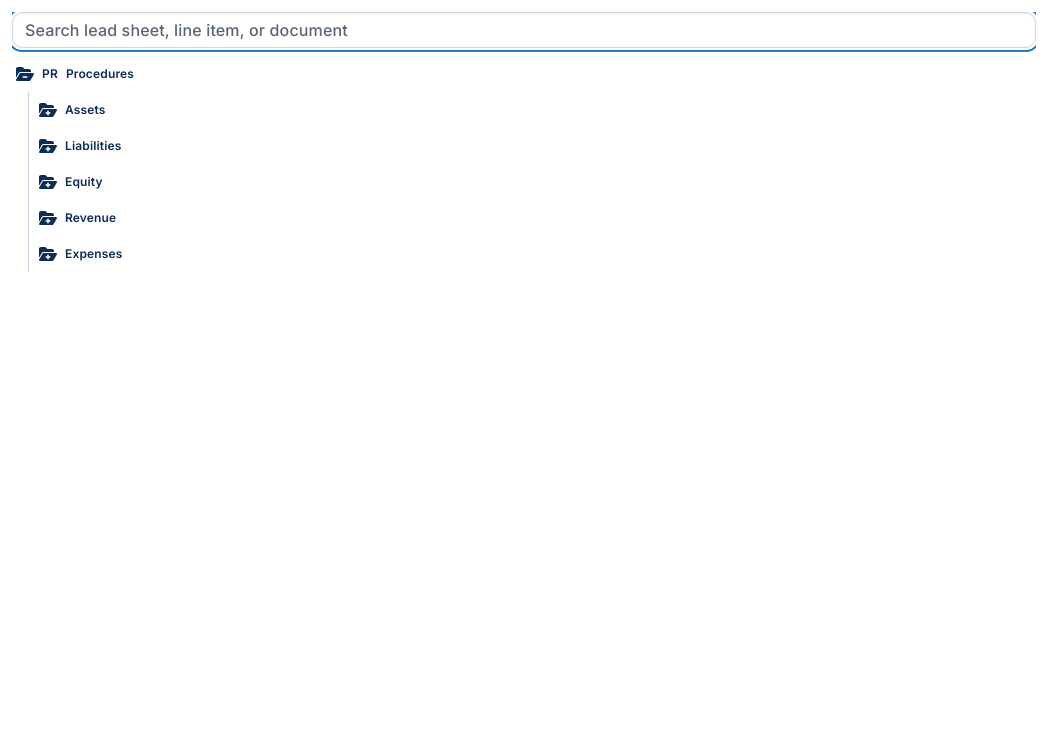
Test: Engagement and Lead sheet link pickers › matches the procedure lead sheet hierarchy, rows, columns, totals, and real attached docs for multiple lead sheets
The image size is (1048, 754).
Later steps or results of the test are not shown.
Check: the button "PR Procedures" is shown, box [12,56,1032,92]
Check: the button "Revenue" is shown, box [35,200,1032,236]
Click the button "Assets" at point(85, 110), box [35,92,1032,128]
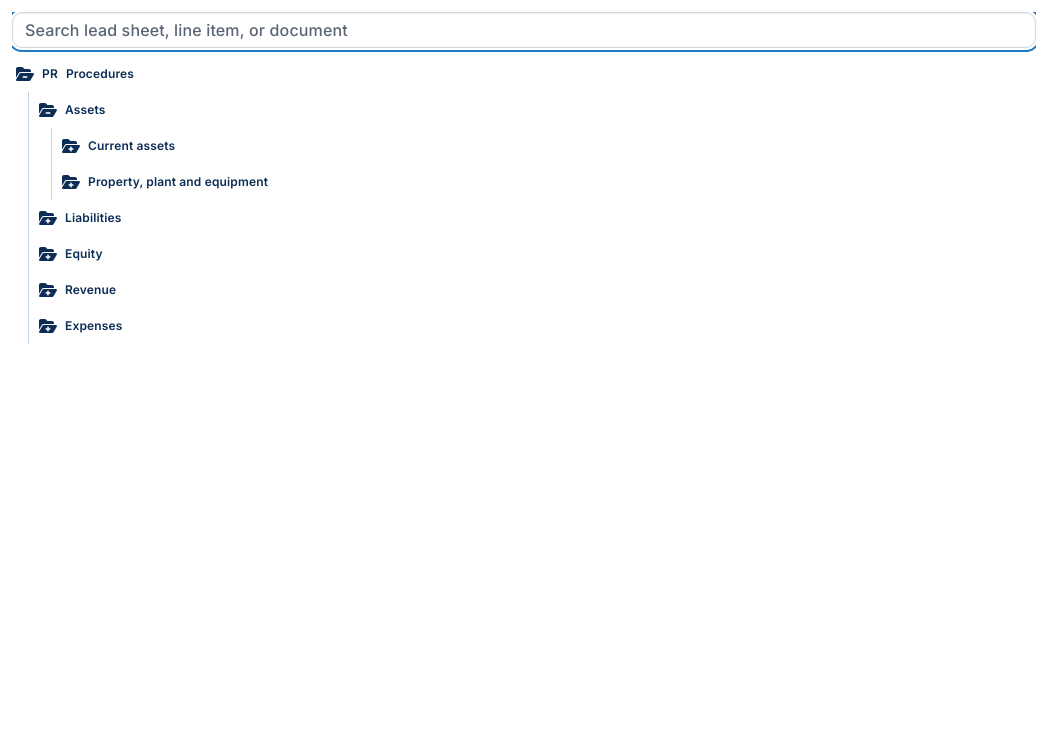
Click the button "Current assets" at point(132, 146), box [58,128,1032,164]
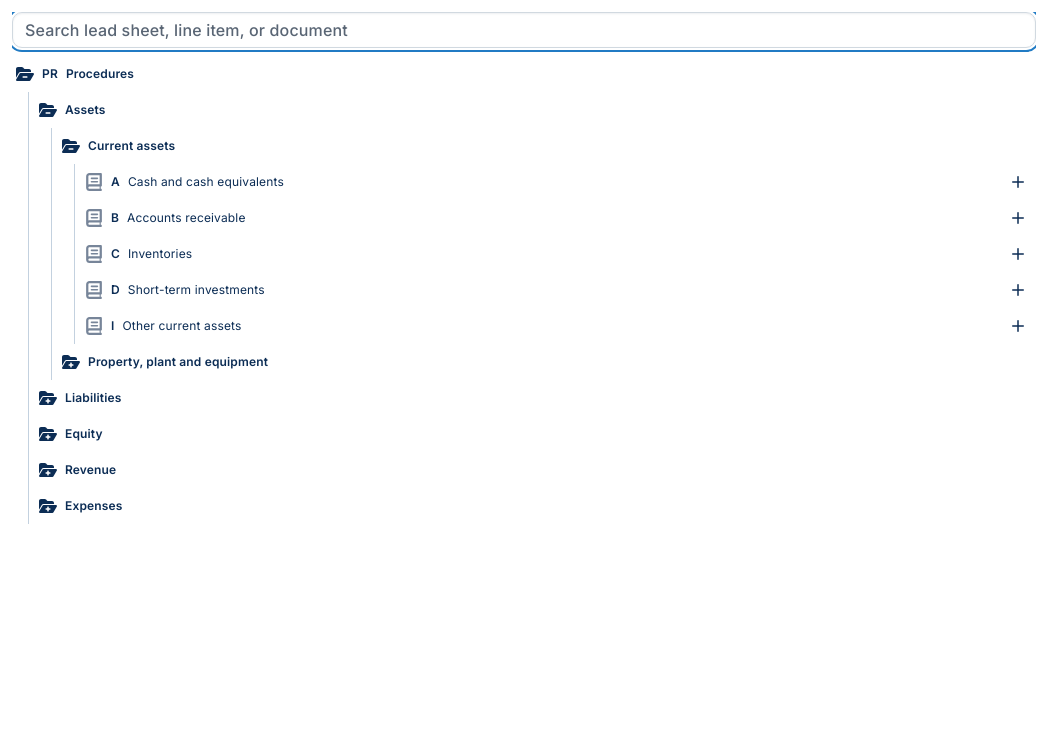
Click the 1st button named "Show line items" at point(1018, 182), box [1004,168,1032,196]
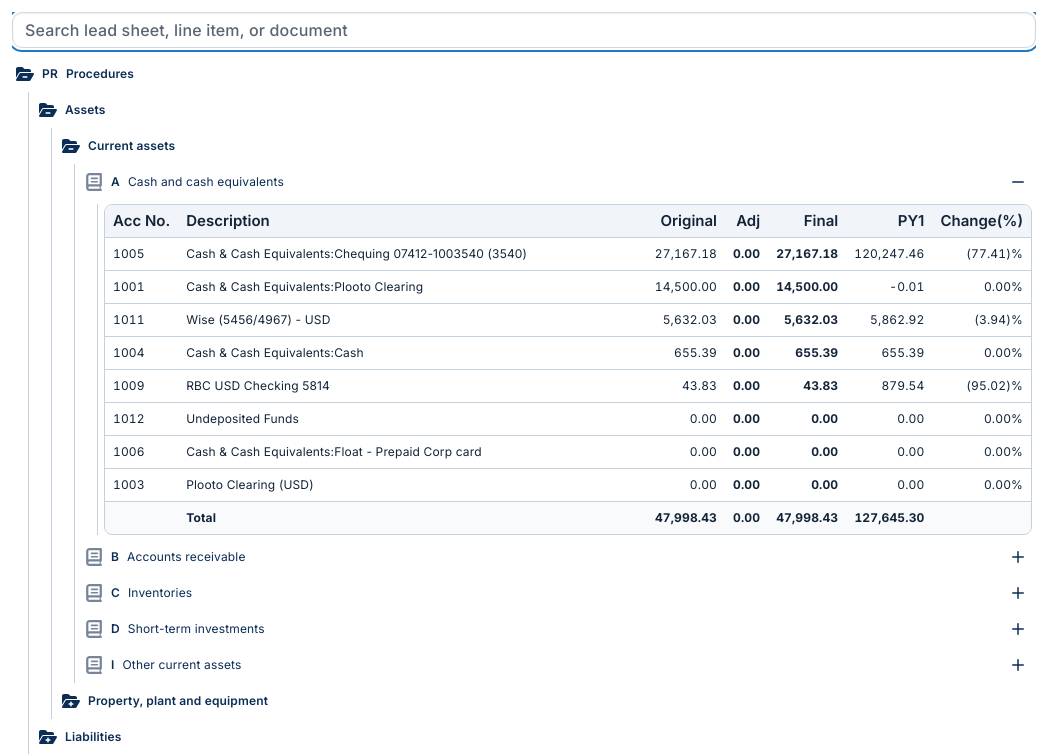
Click the 1st button named "Show line items" at point(1018, 557), box [1004,543,1032,571]
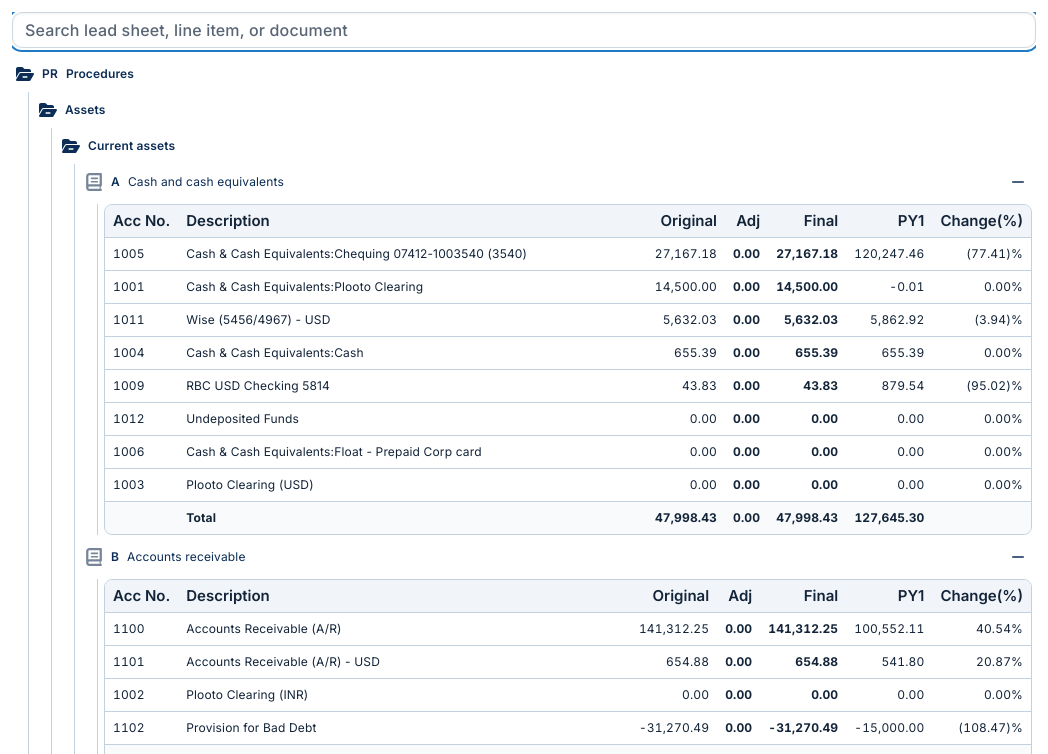
Check: the text "1005" is shown, box [113,246,145,261]
Check: the text "Cash & Cash Equivalents:Chequing 07412-1003540 (3540)" is shown, box [178,238,647,270]
Check: the text "0.00" is shown, box [725,238,768,270]
